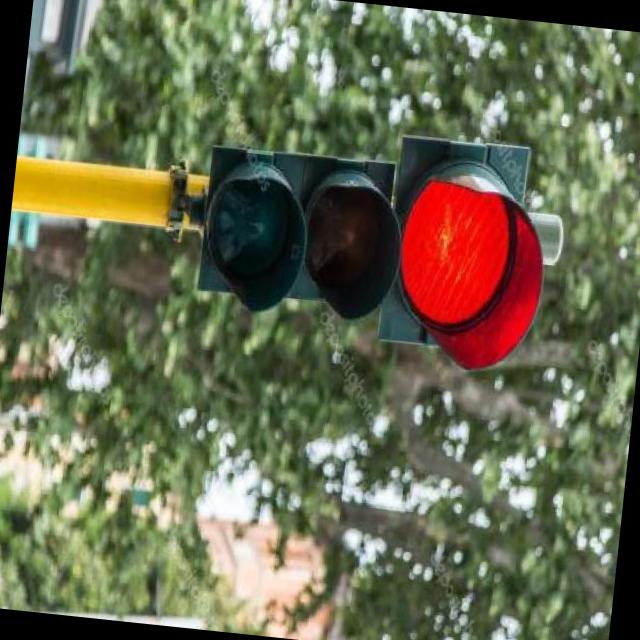red-lights: (374, 133, 587, 384)
